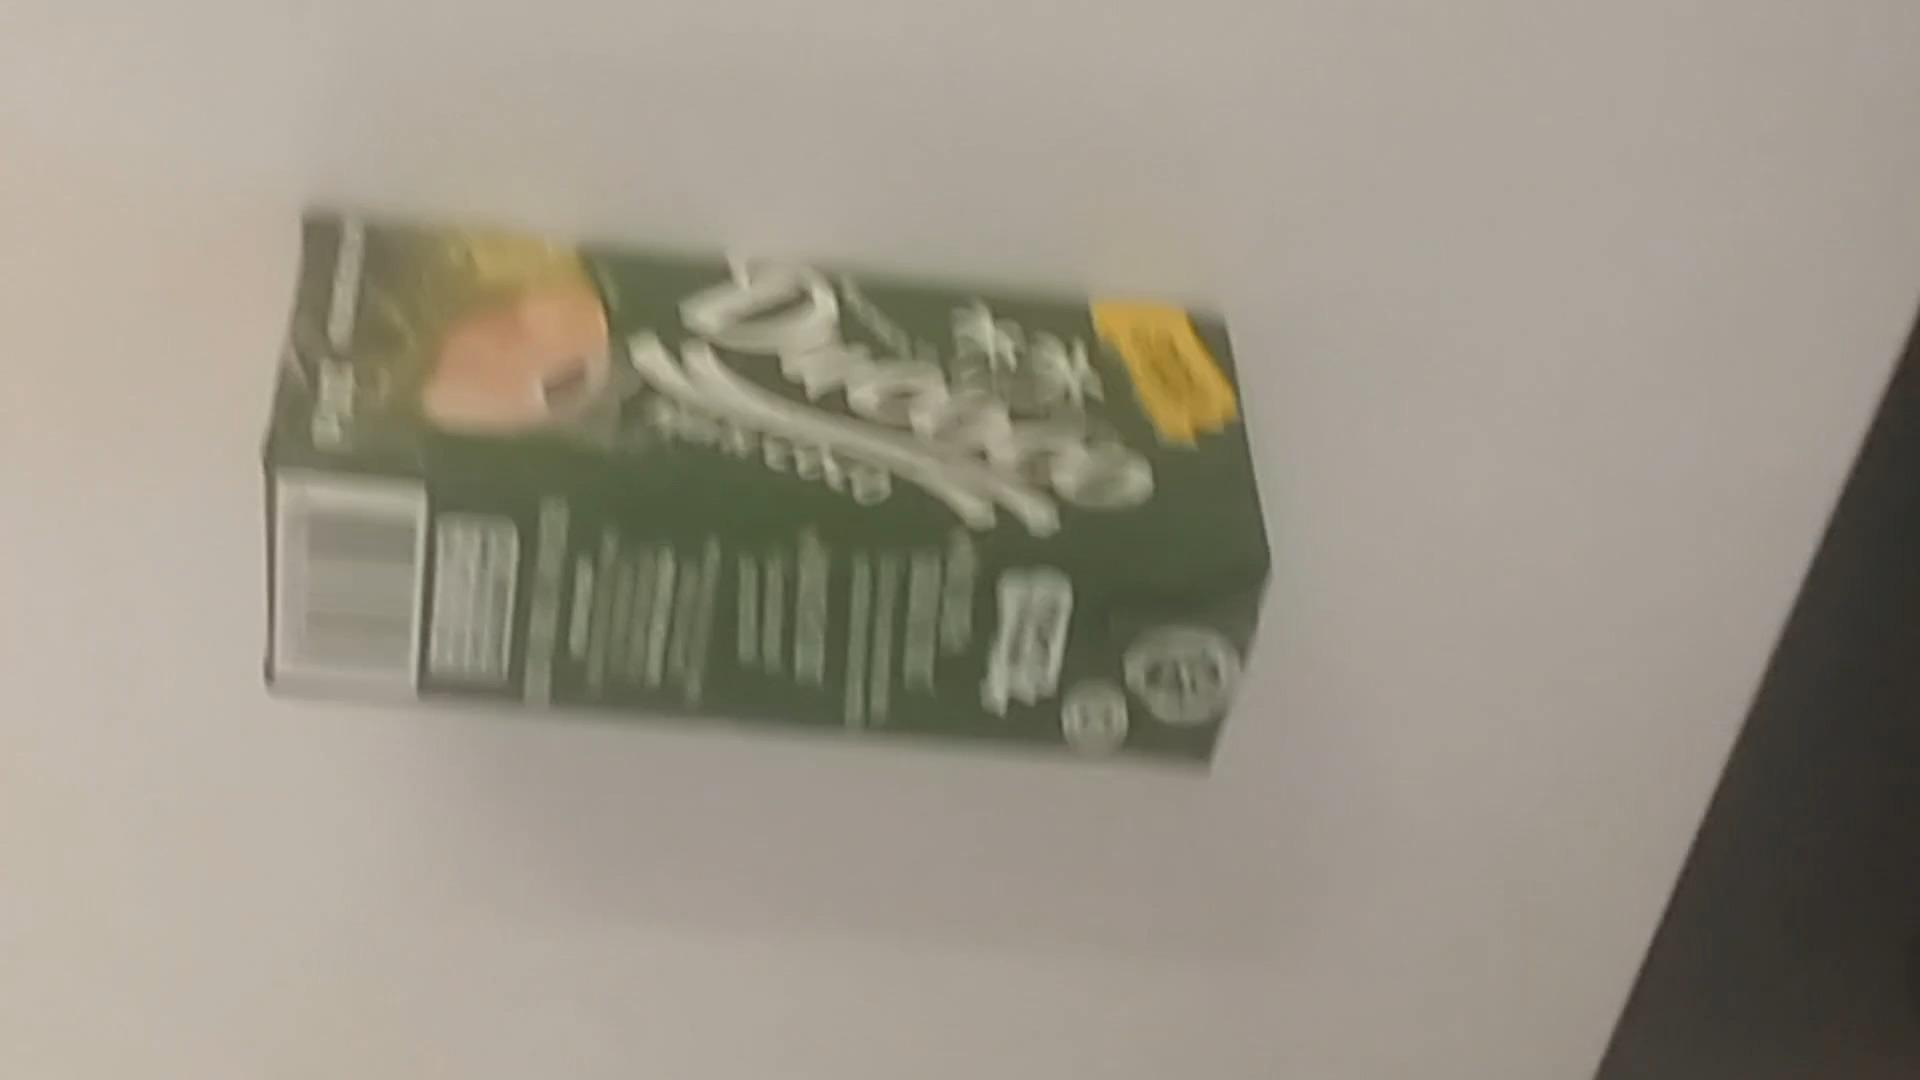coco: (252, 195, 1295, 782)
